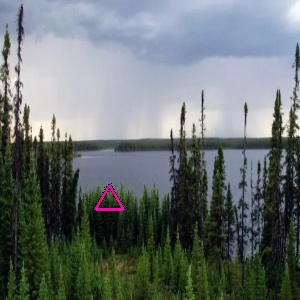triangle: (91, 182, 126, 213)
